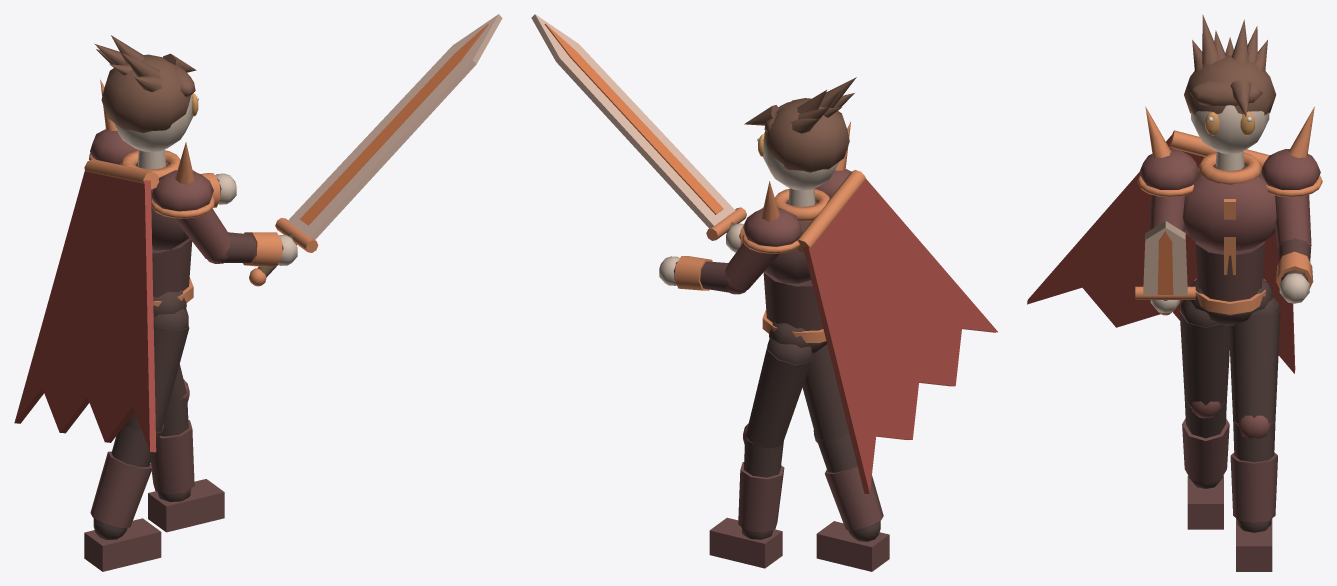
File: ally_5_ash_knight.glb
The picture shows the model from 3 angles, left to right: view 1: azimuth 30°, elevation 25°; view 2: azimuth 150°, elevation 25°; view 3: azimuth 270°, elevation 25°; orthographic projection. The views are drawn at different scales.
Parts seen in each view (by area): view 1: Cape, LegR, Weapon, Torso, Head, LegL, ArmR, ArmL; view 2: Cape, LegL, Torso, LegR, Weapon, Head, ArmL; view 3: Torso, Cape, LegL, LegR, Head, ArmL, Weapon, ArmR.
Part boxes in pixels (<box>): Cape: <box>14,159,159,452</box>; LegR: <box>84,308,189,571</box>; Weapon: <box>249,14,502,286</box>; Torso: <box>89,79,214,316</box>; Head: <box>94,35,198,152</box>; LegL: <box>148,364,224,532</box>; ArmR: <box>174,209,297,267</box>; ArmL: <box>200,173,236,207</box>; Cape: <box>797,170,997,493</box>; LegL: <box>709,339,813,568</box>; Torso: <box>742,121,851,353</box>; LegR: <box>802,344,889,571</box>; Weapon: <box>531,14,746,240</box>; Head: <box>744,77,856,190</box>; ArmL: <box>659,243,779,294</box>; Torso: <box>1137,106,1322,325</box>; Cape: <box>1027,130,1295,373</box>; LegL: <box>1228,297,1280,571</box>; LegR: <box>1179,300,1229,529</box>; Head: <box>1184,14,1276,154</box>; ArmL: <box>1275,194,1313,303</box>; Weapon: <box>1135,221,1195,315</box>; ArmR: <box>1149,194,1184,313</box>.
Size of the model in its own units: 2.38 by 2.74 by 1.47.
